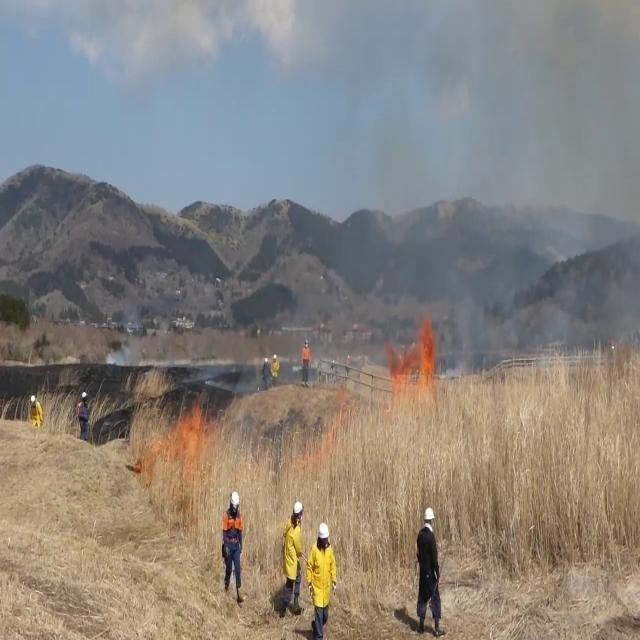Fire: (388, 306, 442, 394), (168, 402, 208, 458)
Smoke: (367, 2, 640, 379)
